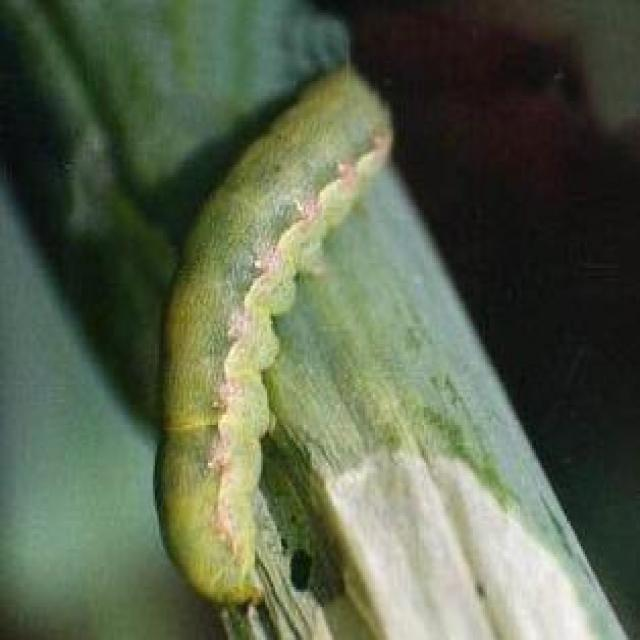BeetArmyWorm-Larva-: (141, 61, 416, 613)
